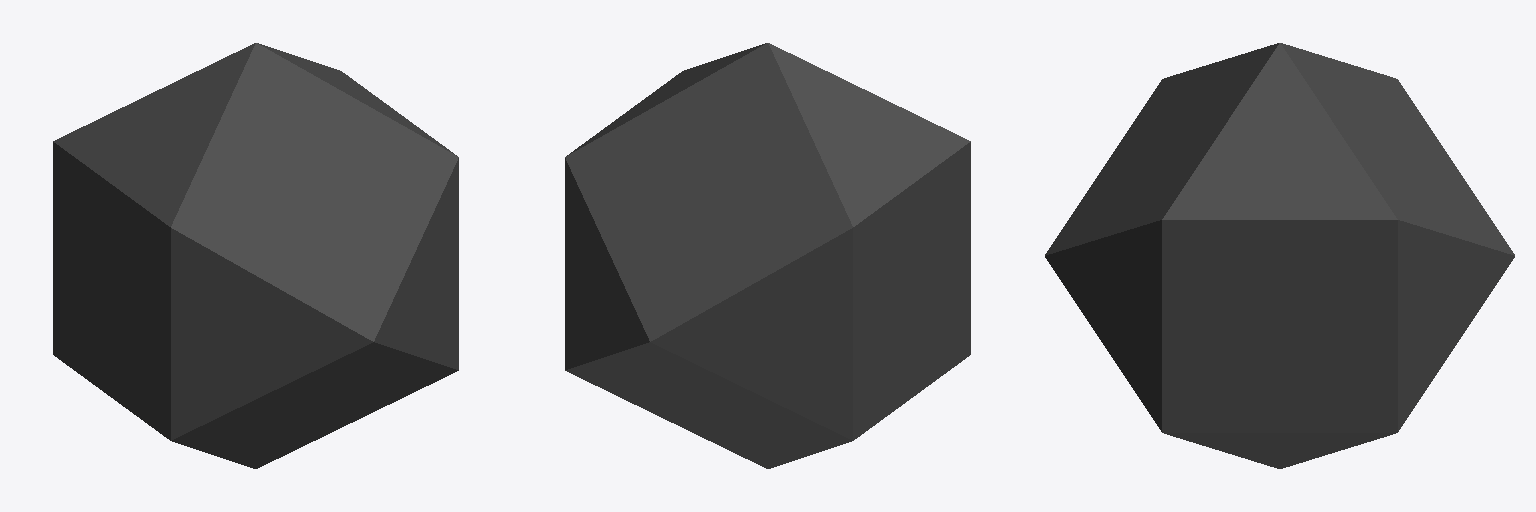
Rendered from meteorito1.obj.
3 views of the same model, side by side, from view 1: azimuth 30°, elevation 25°; view 2: azimuth 150°, elevation 25°; view 3: azimuth 270°, elevation 25° (orthographic).
Visible parts, largest first — view 1: Hedra001; view 2: Hedra001; view 3: Hedra001.
Part boxes in pixels (x1,y1,x2,y2): Hedra001: (53, 43, 458, 468); Hedra001: (565, 43, 970, 468); Hedra001: (1045, 43, 1514, 468).
Bounding box in the file's own units: 21.44 × 30.33 × 30.33.